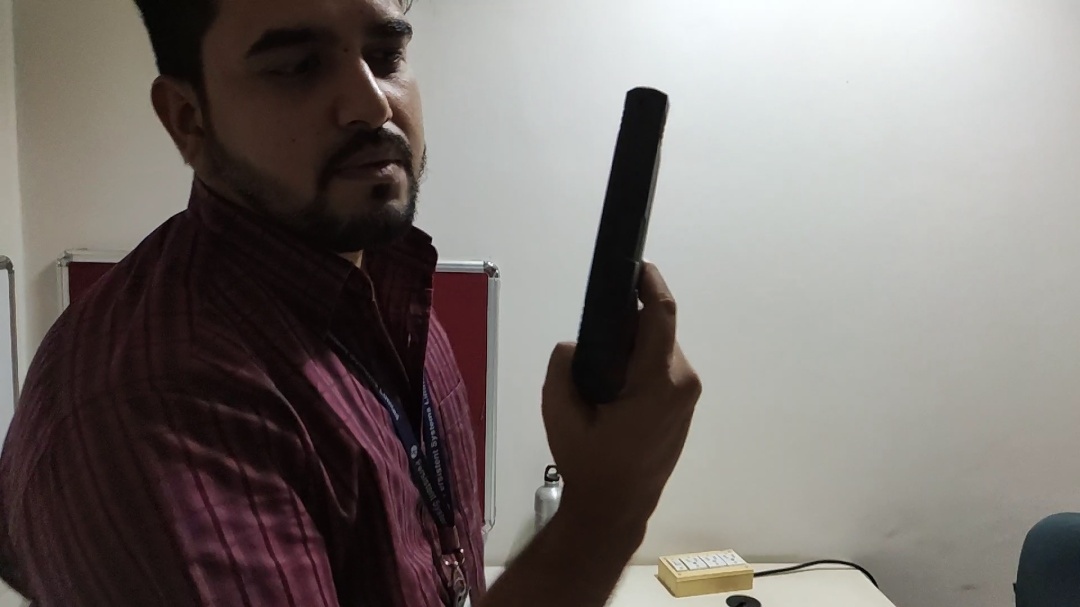gun: (566, 73, 699, 410)
